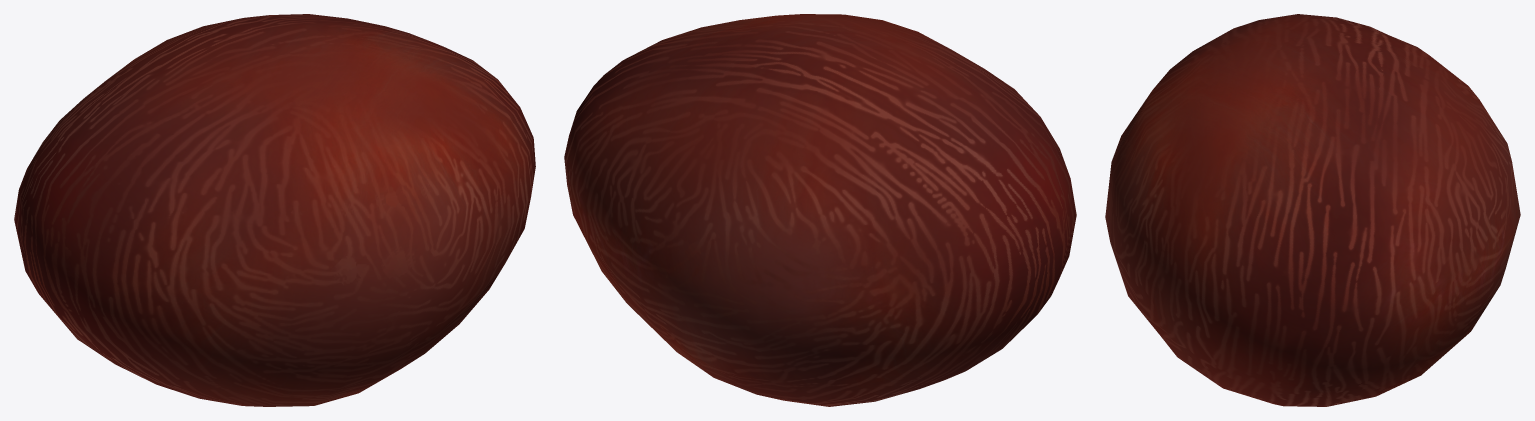
File: bladder.FBX
3 views of the same model, side by side, from view 1: azimuth 30°, elevation 25°; view 2: azimuth 150°, elevation 25°; view 3: azimuth 270°, elevation 25° (orthographic). The views are drawn at different scales.
Parts seen in each view (by area): view 1: Bladder; view 2: Bladder; view 3: Bladder.
Boxes of the visible parts, x1,y1,x2,y2 form: Bladder: (14, 14, 535, 406); Bladder: (564, 14, 1076, 406); Bladder: (1105, 14, 1520, 406).
Size of the model in its own units: 67.54 by 52.91 by 47.49.
